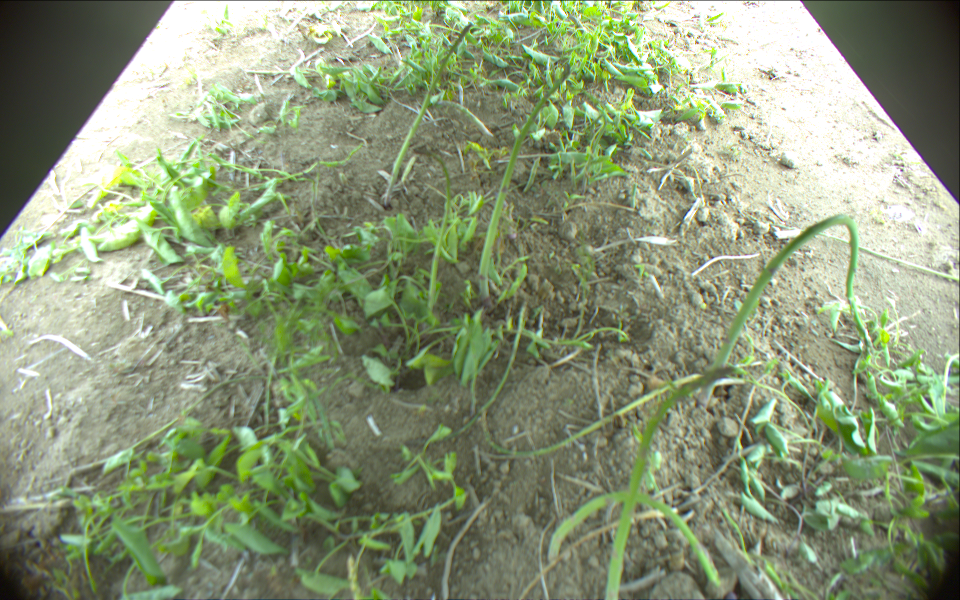aspa: (606, 364, 749, 600), (698, 214, 871, 401), (476, 63, 571, 303), (481, 371, 705, 456), (383, 22, 473, 208), (547, 493, 724, 587), (415, 147, 451, 310)
